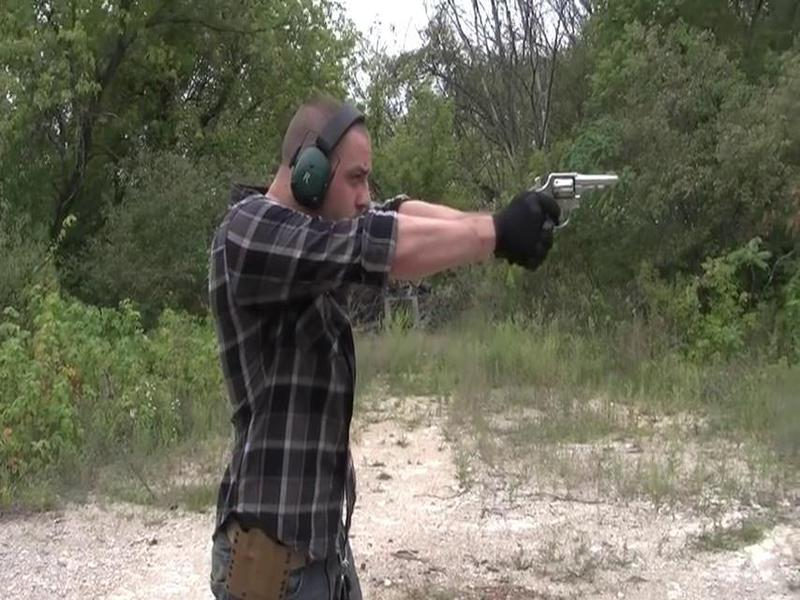Revolver: (531, 160, 618, 232)
